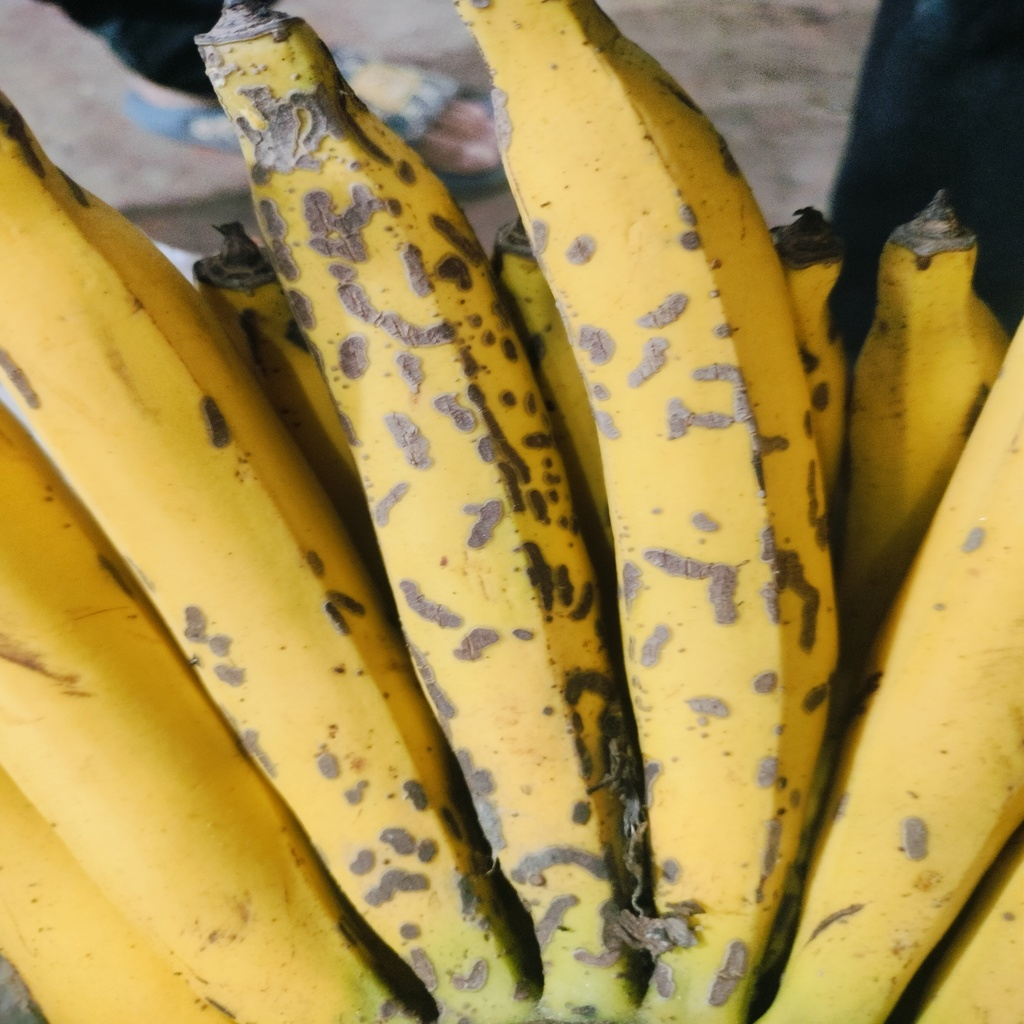unhealthy: (2, 96, 521, 998), (191, 23, 651, 970), (455, 1, 839, 1002)
